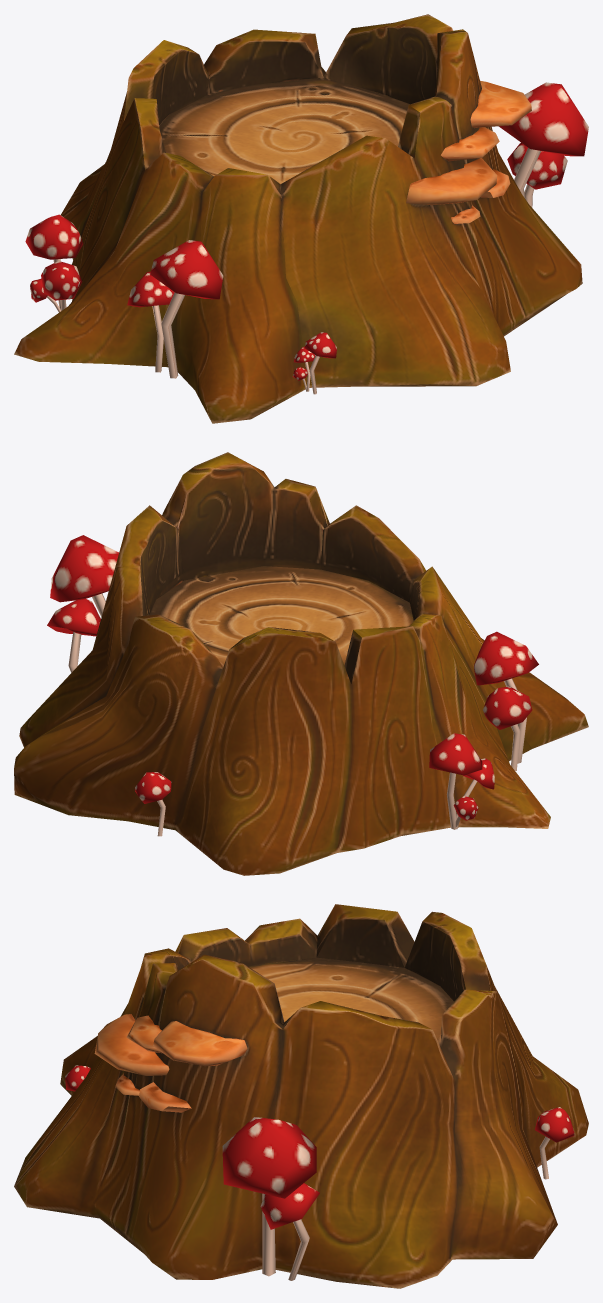
The model's file is trunk.fbx.
3 renders of one model, top to bottom at view 1: azimuth 30°, elevation 25°; view 2: azimuth 150°, elevation 25°; view 3: azimuth 270°, elevation 25°, orthographic. The views are drawn at different scales.
Parts seen in each view (by area): view 1: trunk; view 2: trunk; view 3: trunk.
Boxes of the visible parts, <box> form: trunk: <box>14,14,588,423</box>; trunk: <box>14,452,588,875</box>; trunk: <box>14,904,588,1288</box>.
Size of the model in its own units: 542 by 479 by 246.
